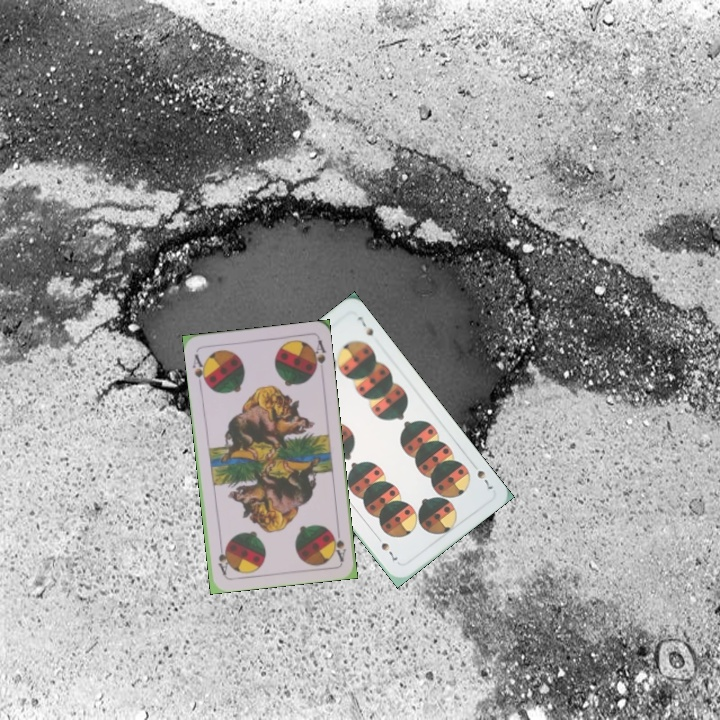S7: (473, 466, 495, 492)
SA: (188, 350, 210, 389), (328, 523, 348, 563)
